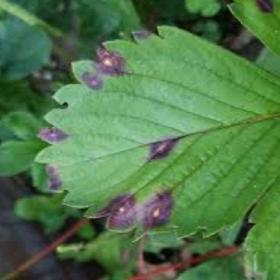Leaf Spot: (32, 26, 279, 243)
